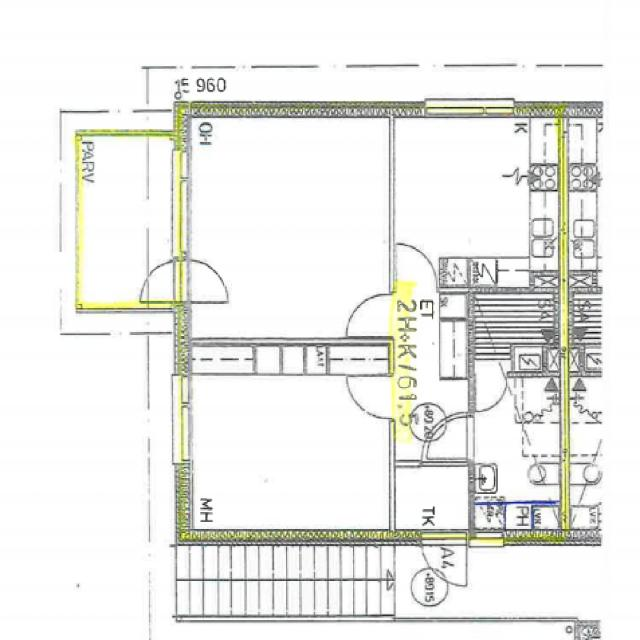door: (422, 530, 467, 594), (174, 262, 230, 302), (136, 262, 192, 302), (423, 416, 466, 468), (426, 414, 476, 458), (350, 377, 396, 419), (350, 294, 396, 336), (399, 246, 438, 294), (478, 370, 509, 410)
